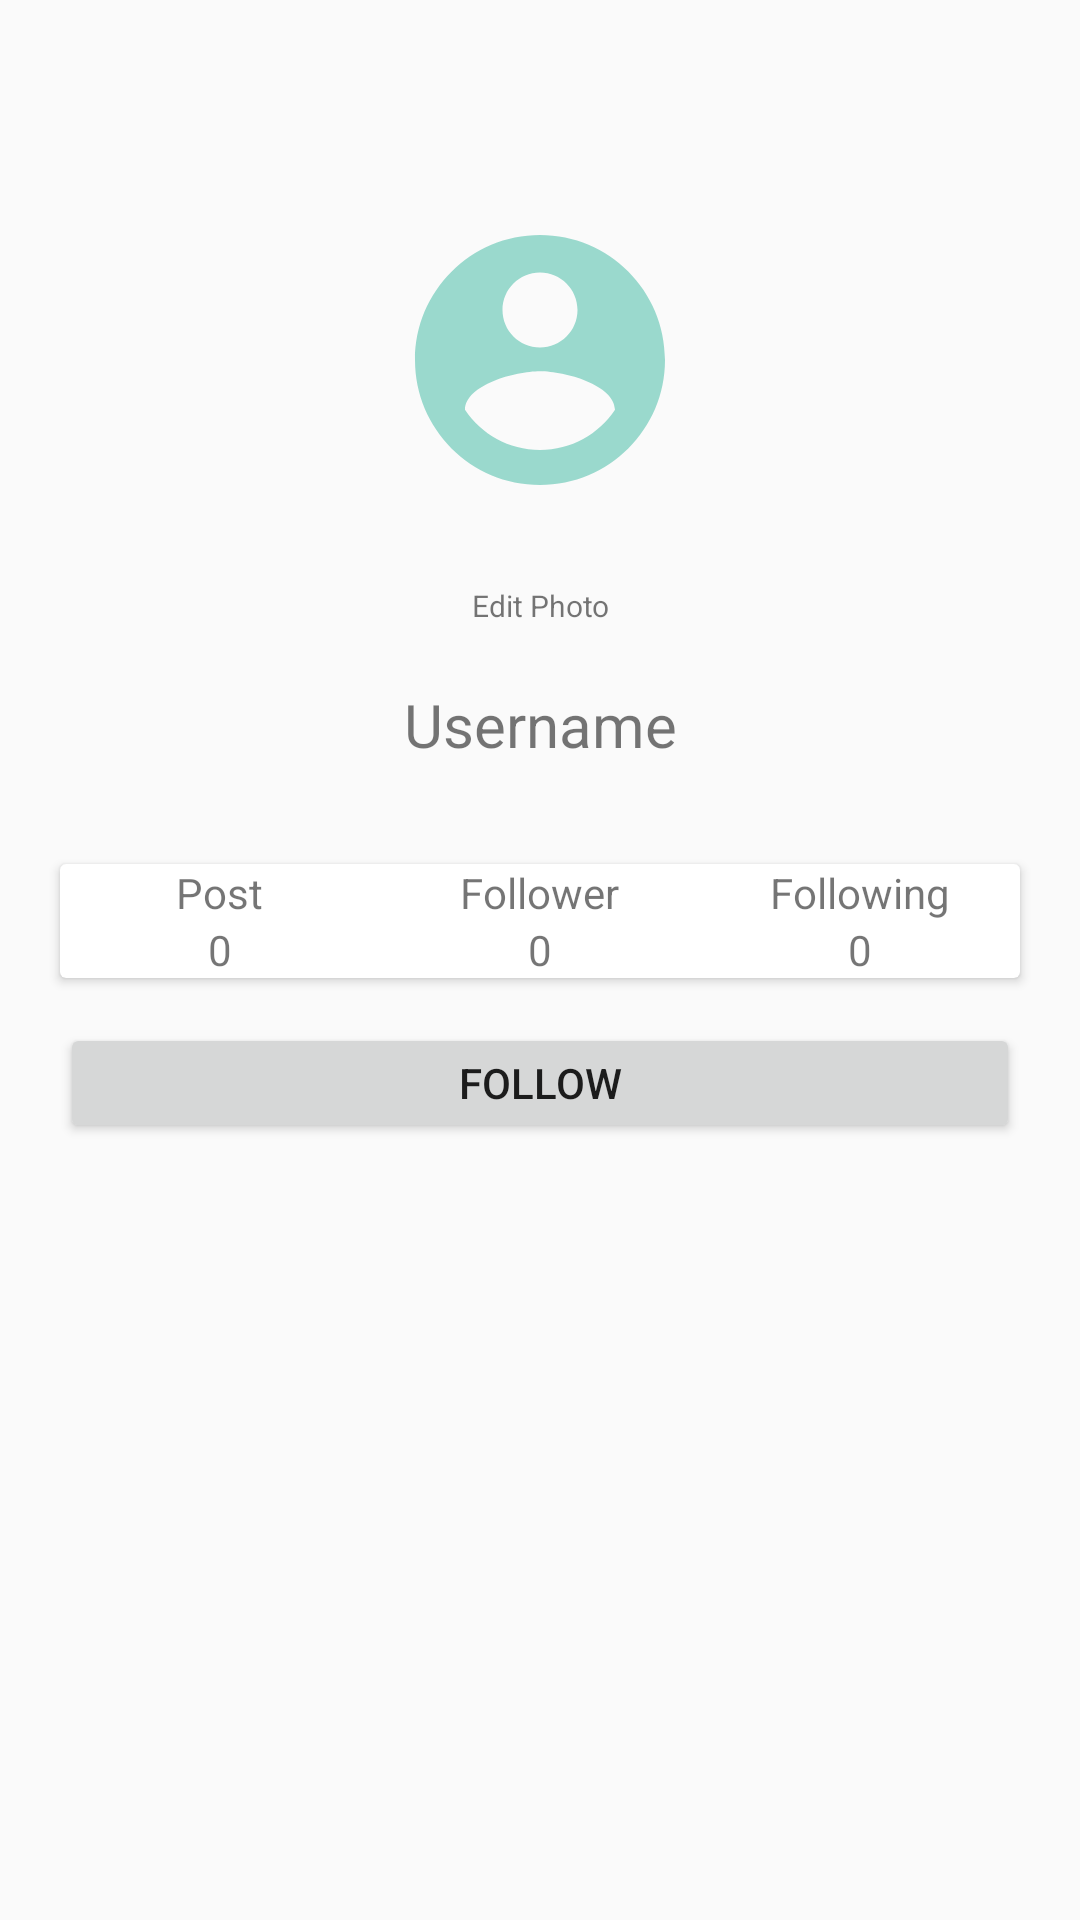

Named icons in this screenshot (1080x1920) and their bounding boxes, (x1, y1, x2, y2):
account: (415, 235, 665, 485)
